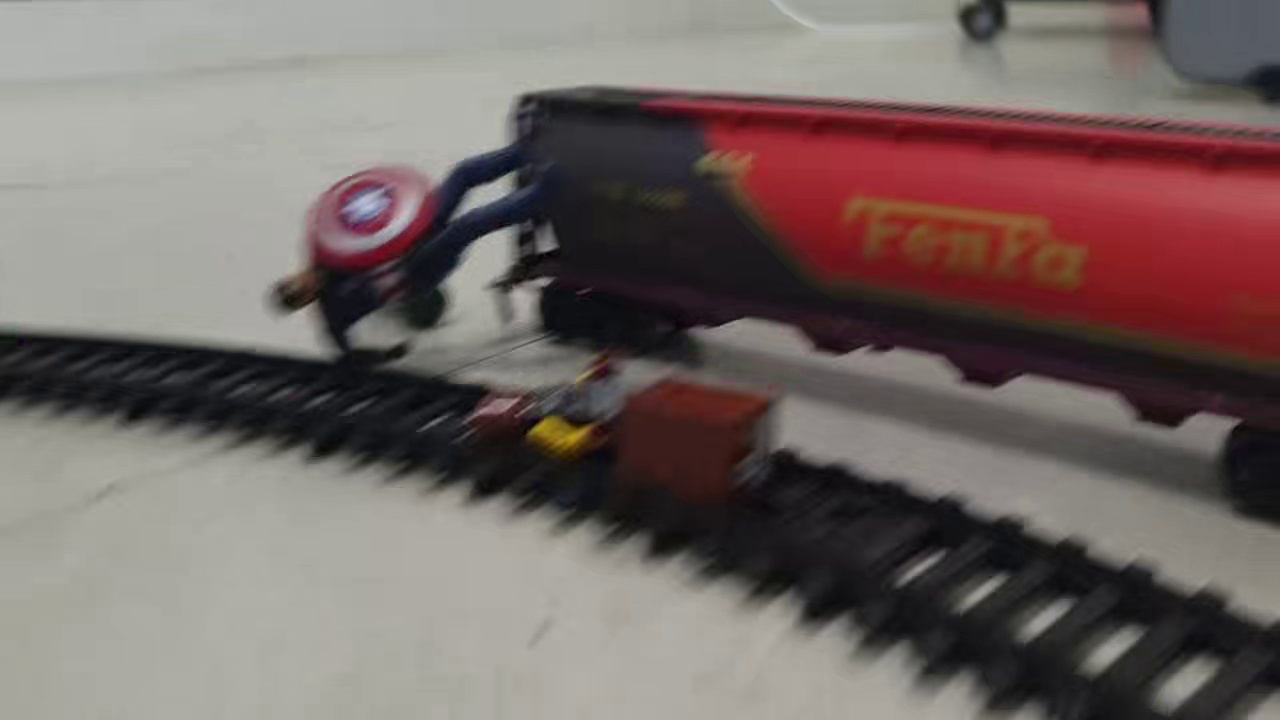box: (596, 376, 781, 537)
people: (270, 104, 566, 351), (476, 349, 650, 456)
